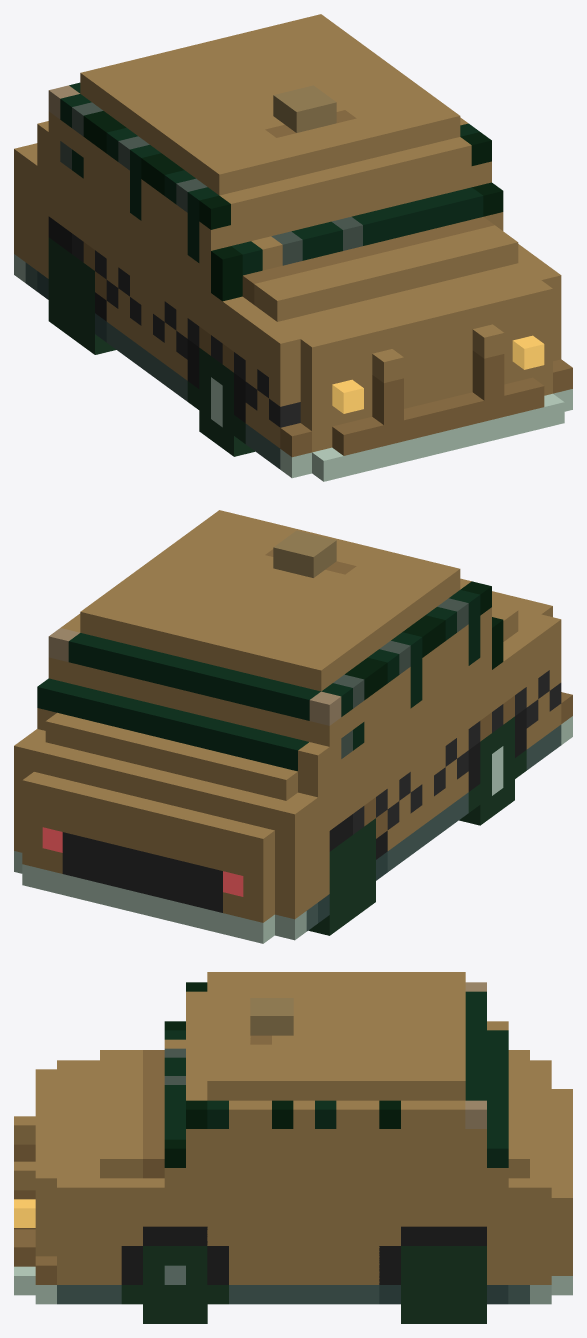
File: cars_taxi.glb
3 renders of one model, top to bottom at view 1: azimuth 30°, elevation 25°; view 2: azimuth 150°, elevation 25°; view 3: azimuth 270°, elevation 25°, orthographic. The views are drawn at different scales.
Parts seen in each view (by area): view 1: cars_taxi; view 2: cars_taxi; view 3: cars_taxi.
Part boxes in pixels (<box>): cars_taxi: <box>14,14,572,481</box>; cars_taxi: <box>14,510,572,943</box>; cars_taxi: <box>14,972,572,1323</box>.
Size of the model in its own units: 1.96 by 1.82 by 3.64.
Materials: 2 (2 with a texture image).
